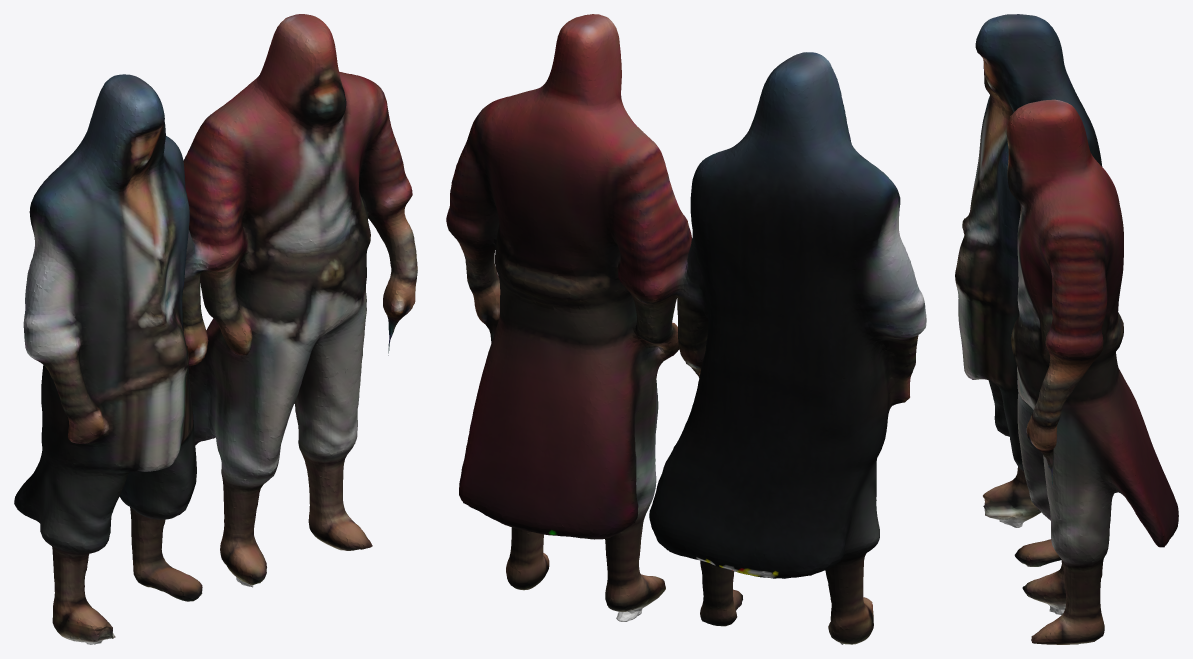
File: mesh_with_colors.obj
3 views of the same model, side by side, from view 1: azimuth 30°, elevation 25°; view 2: azimuth 150°, elevation 25°; view 3: azimuth 270°, elevation 25° (orthographic). The views are drawn at different scales.
Bounding box in the file's own units: 0.7725 × 0.9843 × 0.3738.
